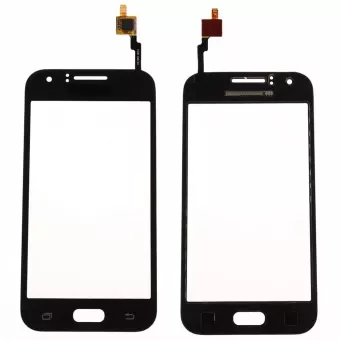Phone: (180, 70, 319, 335), (21, 68, 158, 333)
